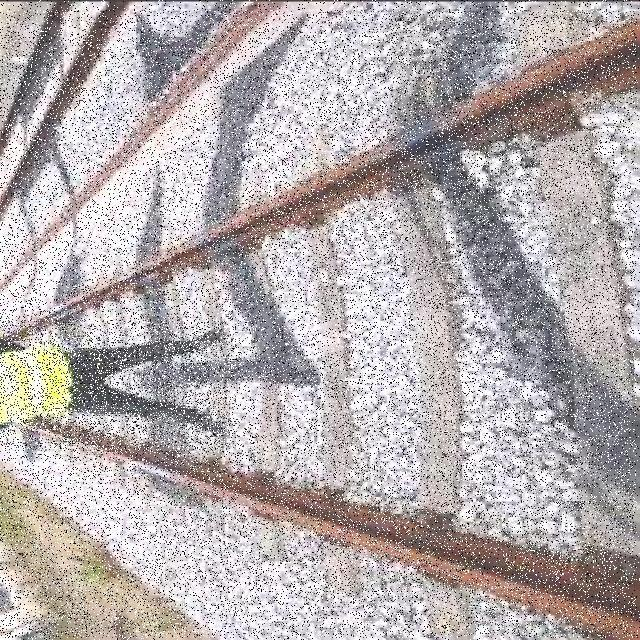danger: (1, 320, 236, 449)
rail: (1, 11, 636, 638)
